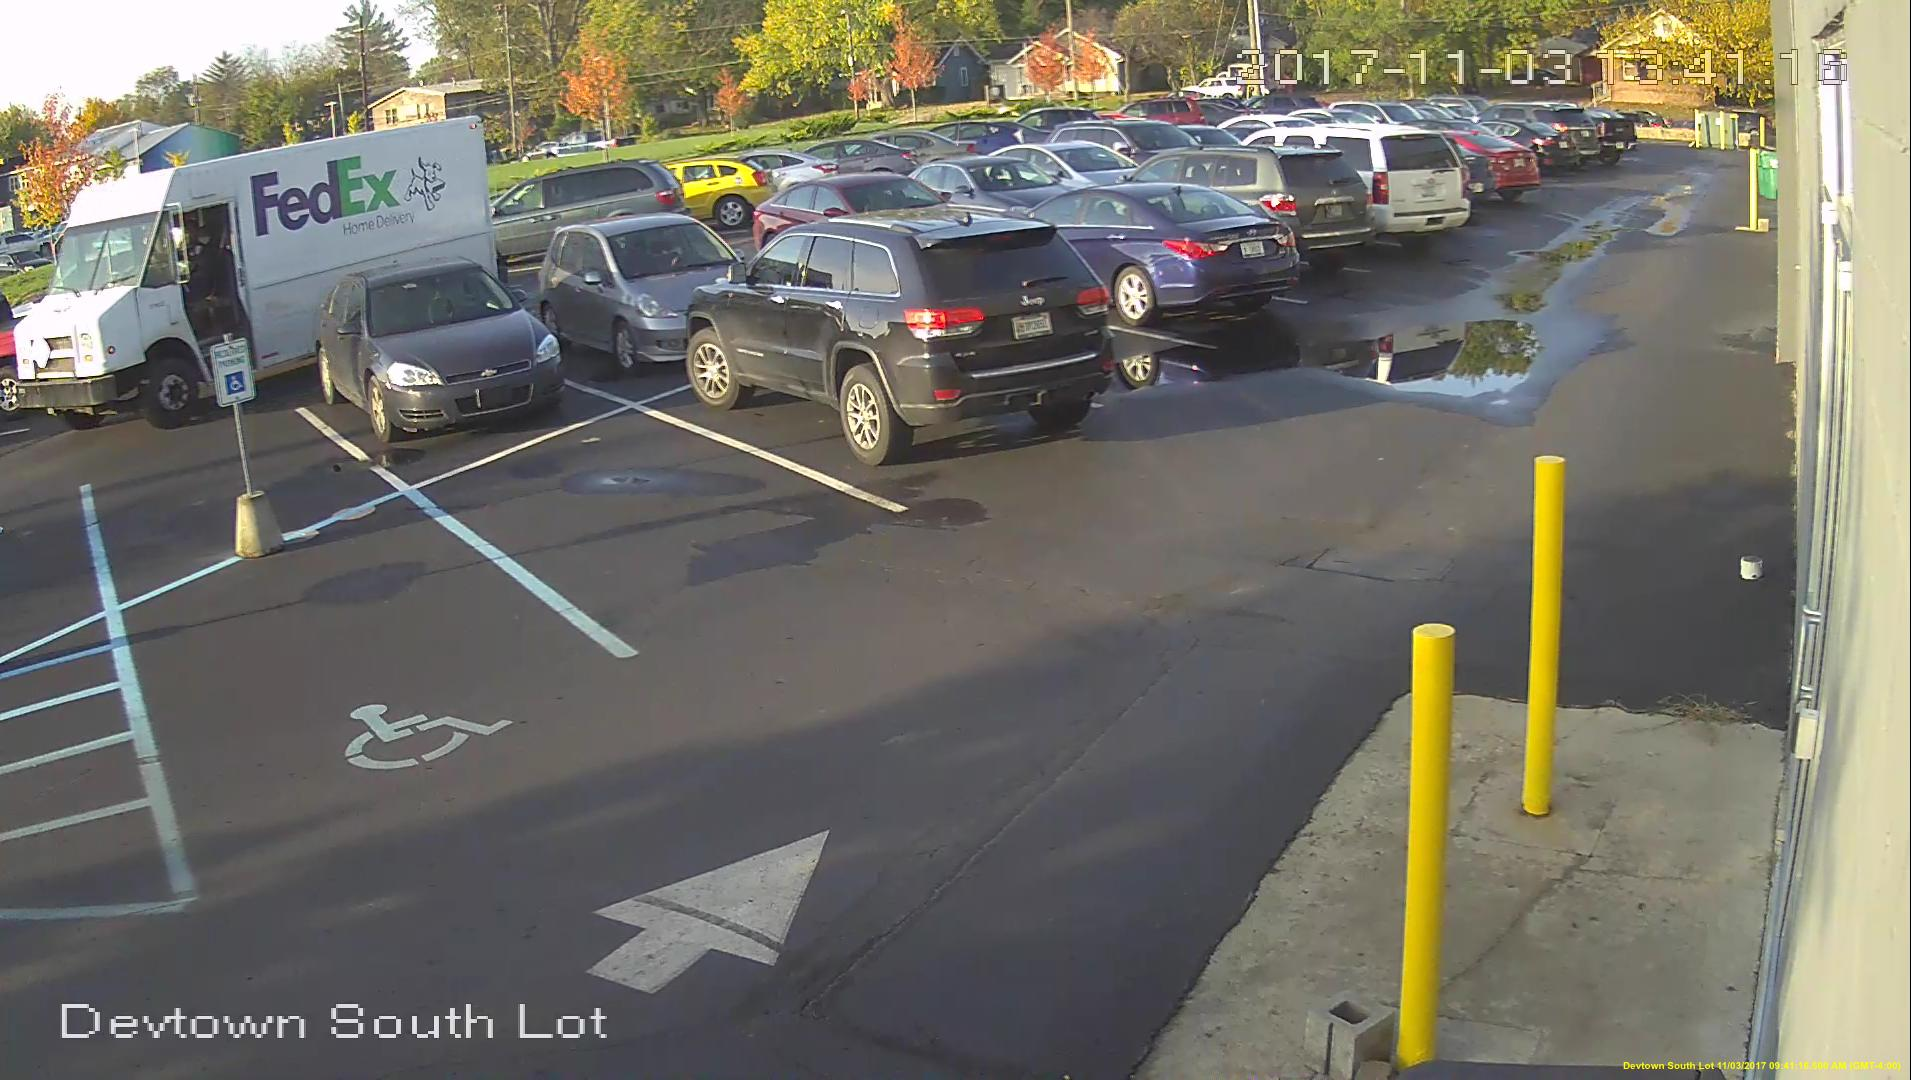fedex_truck: (22, 110, 493, 432)
